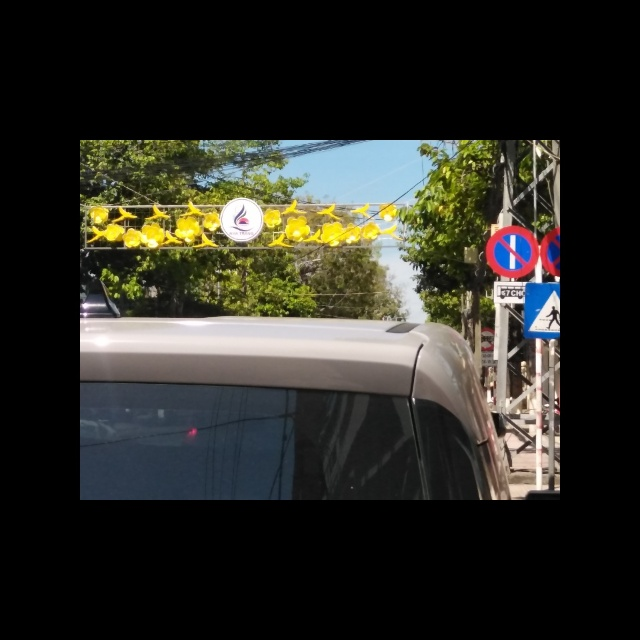Cấm đỗ xe ngày lẻ: (484, 225, 541, 280)
